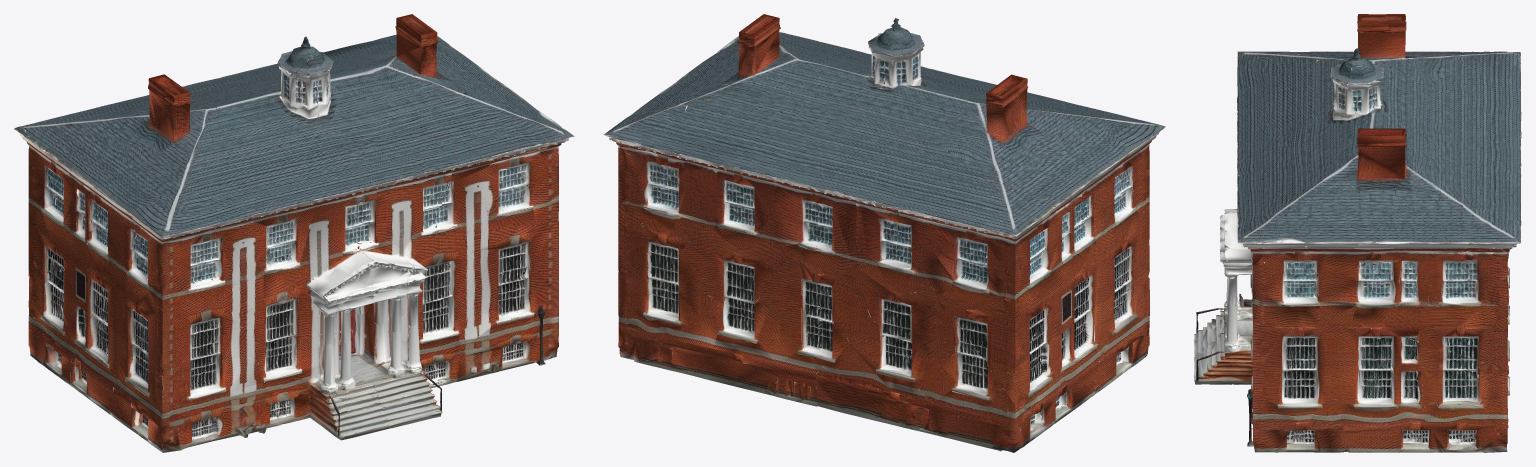
Rendered from bldg-customhouse.glb.
3 renders of one model, left to right at view 1: azimuth 30°, elevation 25°; view 2: azimuth 150°, elevation 25°; view 3: azimuth 270°, elevation 25°, orthographic. The views are drawn at different scales.
Parts seen in each view (by area): view 1: Mesh_0; view 2: Mesh_0; view 3: Mesh_0.
Boxes of the visible parts, x1,y1,x2,y2 form: Mesh_0: [14, 14, 574, 452]; Mesh_0: [603, 14, 1165, 452]; Mesh_0: [1194, 14, 1521, 452].
Bounding box in the file's own units: 1.9 × 1.46 × 1.38.
Materials: 1 (1 with a texture image).
